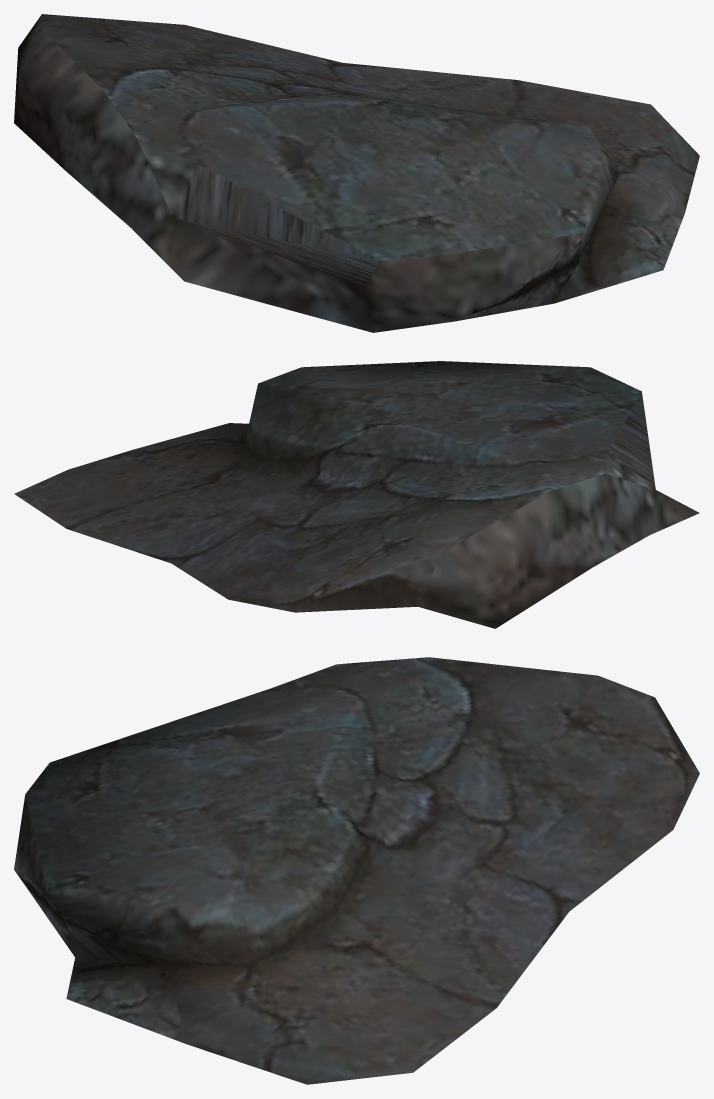
File: S_Rock_Yellow036_H12.FBX
The picture shows the model from 3 angles, top to bottom: view 1: azimuth 30°, elevation 25°; view 2: azimuth 150°, elevation 25°; view 3: azimuth 270°, elevation 25°; orthographic projection. The views are drawn at different scales.
Visible parts, largest first — view 1: S_Rock_Yellow036_H12; view 2: S_Rock_Yellow036_H12; view 3: S_Rock_Yellow036_H12.
Boxes of the visible parts, bbox=[...] form: S_Rock_Yellow036_H12: bbox=[14, 14, 699, 332]; S_Rock_Yellow036_H12: bbox=[14, 361, 699, 628]; S_Rock_Yellow036_H12: bbox=[14, 657, 699, 1084].
Size of the model in its own units: 1007 by 1000 by 257.
Materials: 1 (1 with a texture image).
